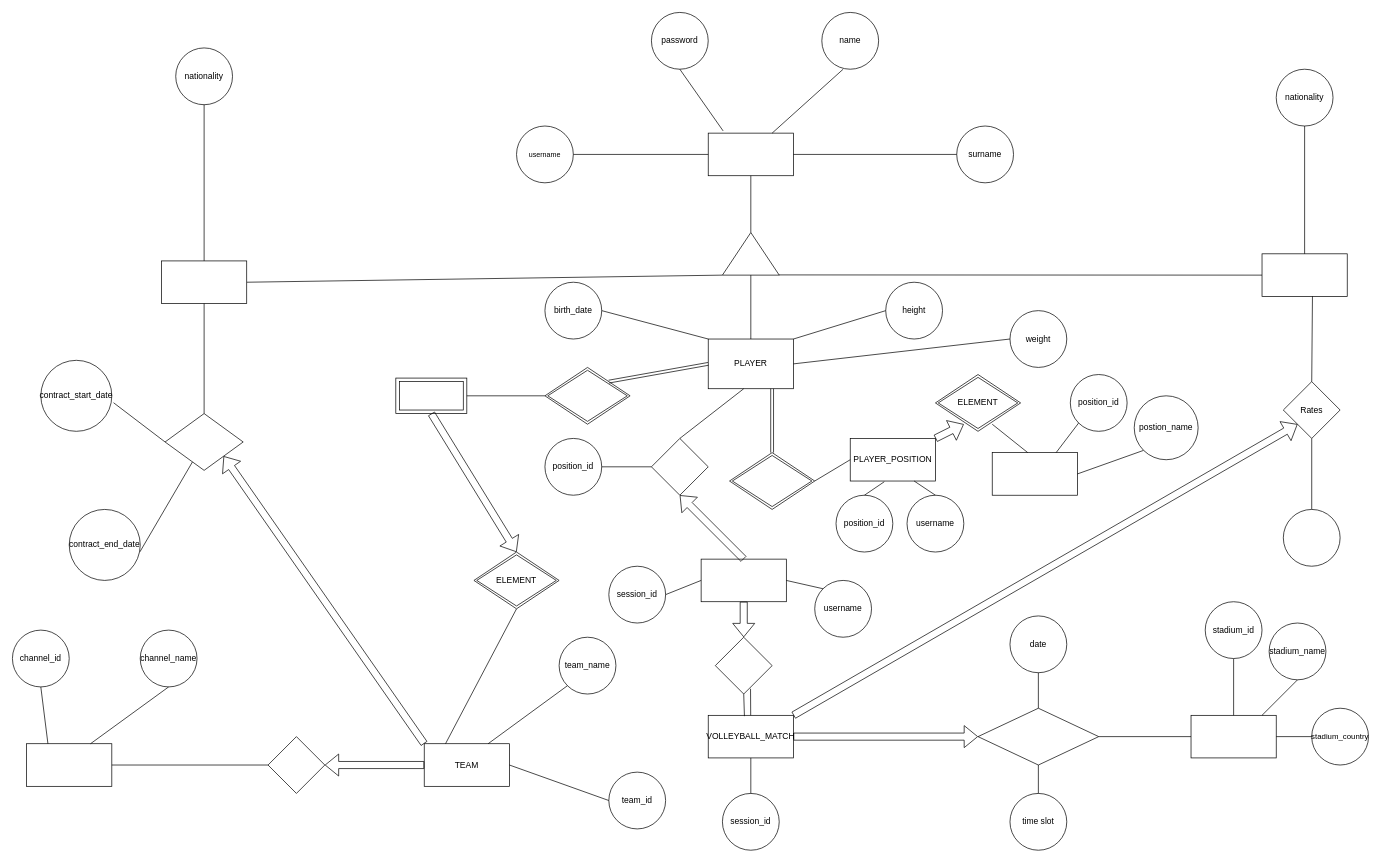
Image size: 1381x863. Some labels were removed from this diagram. The centre of each missing label's shape, as x and y in pixels:
AGREES: (296,764)
CAN PLAY: (772,480)
CHANNEL: (69,764)
COACH: (204,282)
DIRECTS: (203,441)
ENROLLED: (587,395)
IN MATCH: (743,665)
IN SESSION: (679,466)
ISA: (750,253)
JURY: (1304,274)
PLAYER LIST: (743,580)
POSITION_TYPE: (1034,473)
rating: (1311,537)
STADIUM: (1233,736)
TEAM LIST: (431,395)
USER: (750,154)
VOLLEYBALL_MATCH-STADIUM: (1038,736)
